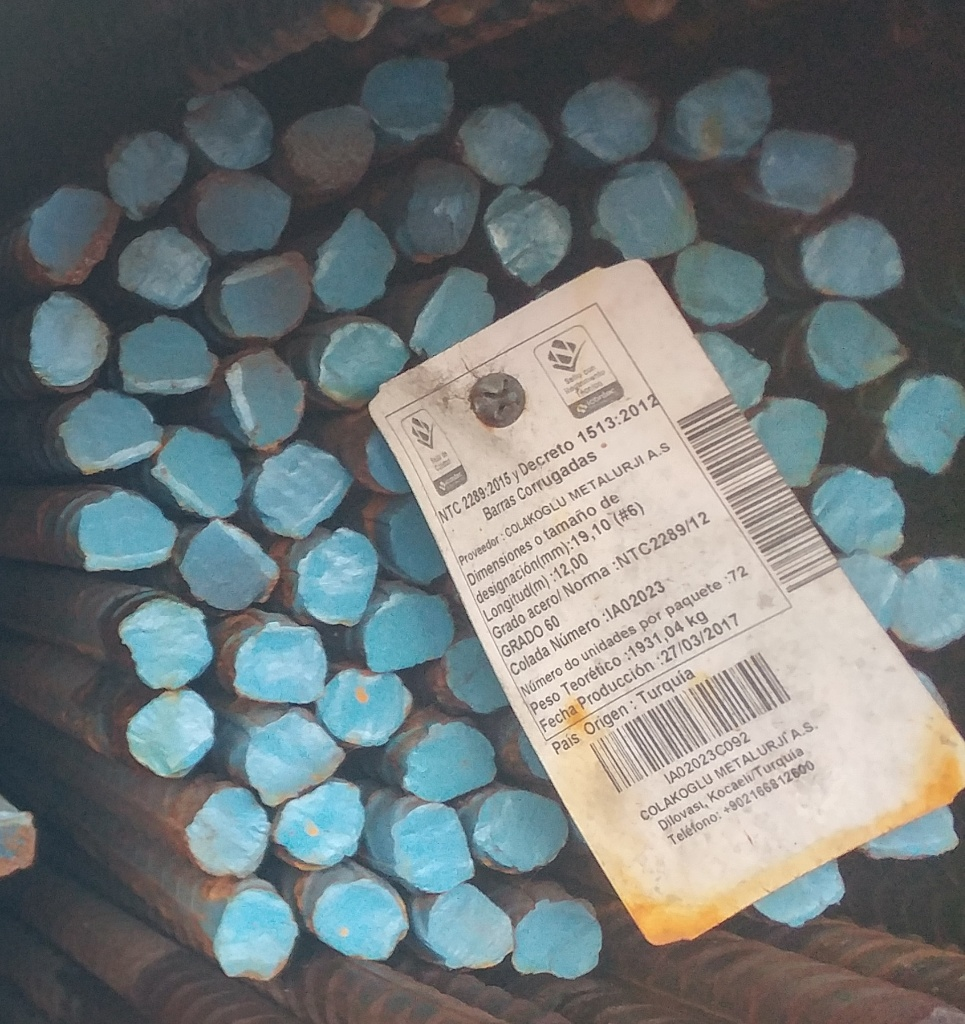dipstick: (596, 166, 695, 258), (257, 445, 349, 533), (807, 302, 901, 387), (801, 219, 902, 298), (676, 71, 767, 157), (886, 376, 965, 474), (561, 77, 654, 160), (250, 717, 341, 800), (31, 190, 112, 283), (312, 214, 392, 308), (762, 130, 854, 211), (672, 242, 764, 323), (184, 524, 271, 609), (816, 470, 903, 555), (274, 782, 362, 866), (489, 187, 570, 278), (404, 726, 496, 805), (476, 790, 569, 868), (226, 254, 311, 338), (130, 689, 213, 775), (394, 802, 475, 890), (126, 602, 211, 685), (426, 886, 512, 968), (412, 273, 493, 360), (319, 326, 407, 406), (65, 395, 158, 470), (197, 172, 286, 250), (79, 494, 174, 567), (287, 107, 371, 189), (161, 430, 239, 518), (120, 321, 214, 392), (118, 231, 208, 305), (32, 295, 106, 385), (184, 91, 271, 167), (406, 160, 477, 253), (365, 60, 453, 135), (301, 536, 376, 624), (216, 890, 291, 978), (317, 880, 401, 958), (238, 625, 323, 702), (364, 598, 452, 672), (512, 902, 600, 976), (231, 353, 302, 444), (898, 553, 965, 646), (322, 673, 410, 743), (193, 791, 266, 874), (114, 132, 184, 218), (465, 107, 545, 182), (754, 402, 822, 486), (752, 861, 842, 923), (694, 334, 766, 409), (838, 556, 897, 636), (857, 809, 954, 857), (390, 507, 445, 581), (448, 641, 504, 713), (1, 815, 38, 879)
